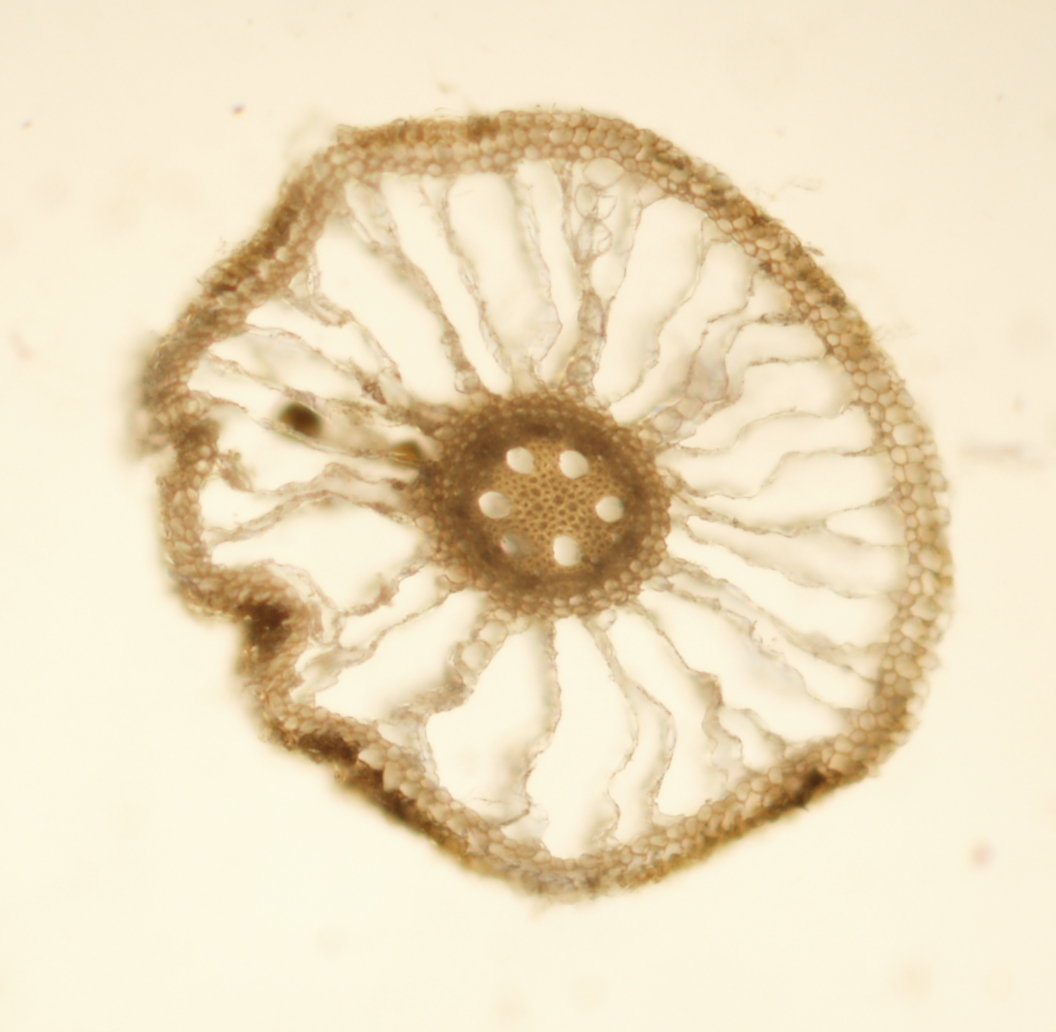lm: (478, 491, 513, 520), (552, 535, 583, 566), (559, 449, 589, 479), (500, 530, 533, 557), (595, 495, 626, 523), (506, 446, 534, 474)
